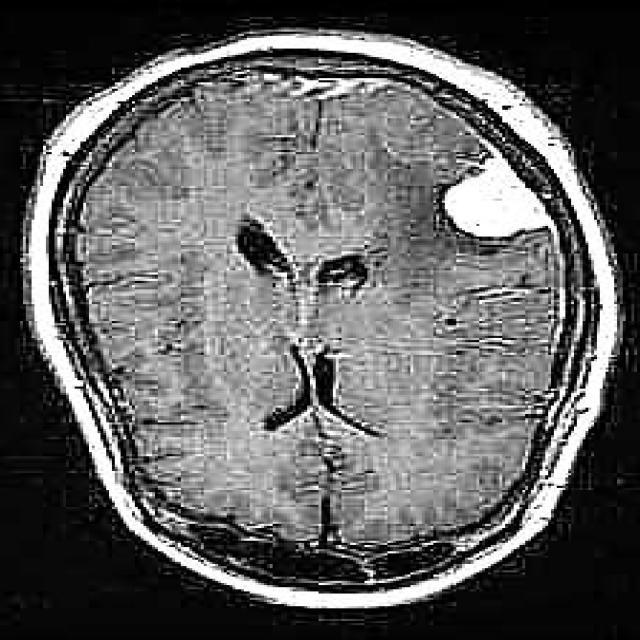tumor: (442, 154, 554, 243)
